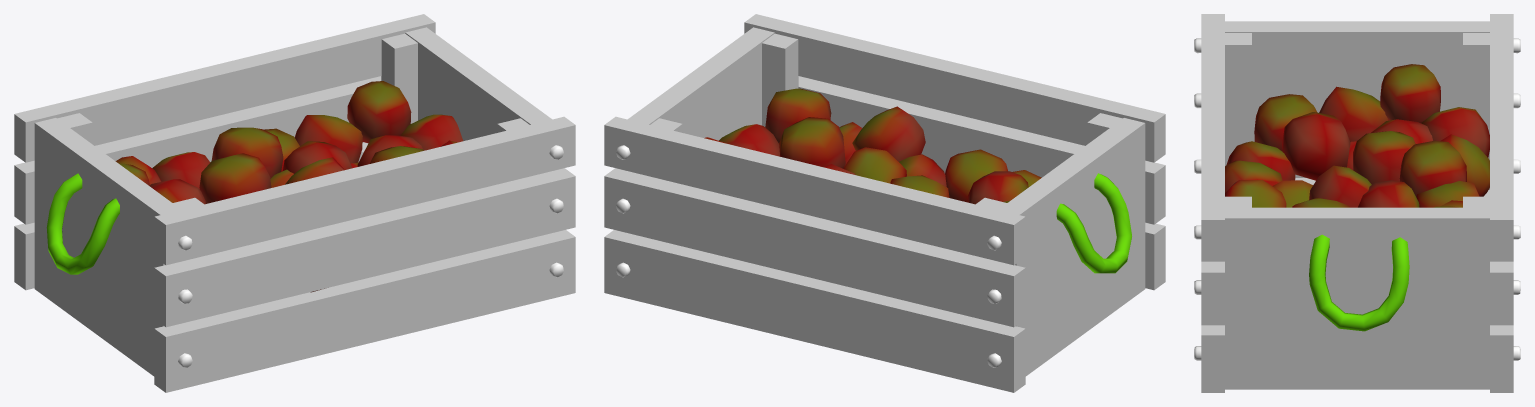
The model's file is farmcrate_apple.glb.
3 views of the same model, side by side, from view 1: azimuth 30°, elevation 25°; view 2: azimuth 150°, elevation 25°; view 3: azimuth 270°, elevation 25° (orthographic). The views are drawn at different scales.
Parts seen in each view (by area): view 1: FarmCrate_Apple; view 2: FarmCrate_Apple; view 3: FarmCrate_Apple.
Boxes of the visible parts, bbox=[...] form: FarmCrate_Apple: bbox=[14, 14, 575, 392]; FarmCrate_Apple: bbox=[604, 14, 1165, 392]; FarmCrate_Apple: bbox=[1194, 14, 1520, 392].
Size of the model in its own units: 0.7138 by 0.2438 by 0.4142.
